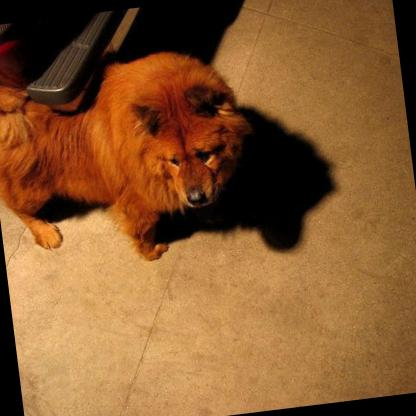chow: (0, 40, 260, 278)
